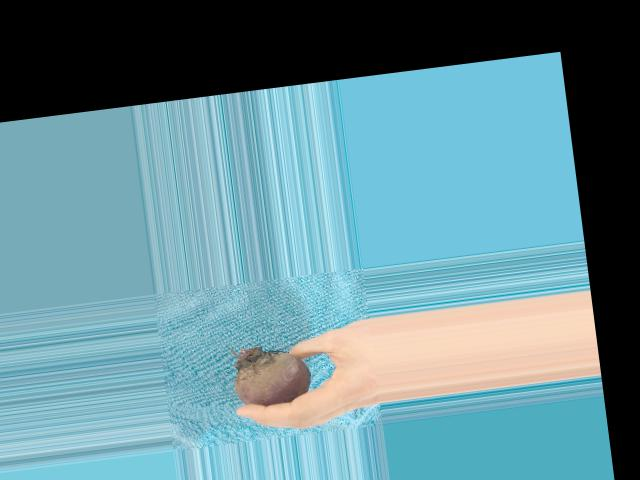beet: (229, 339, 312, 408)
